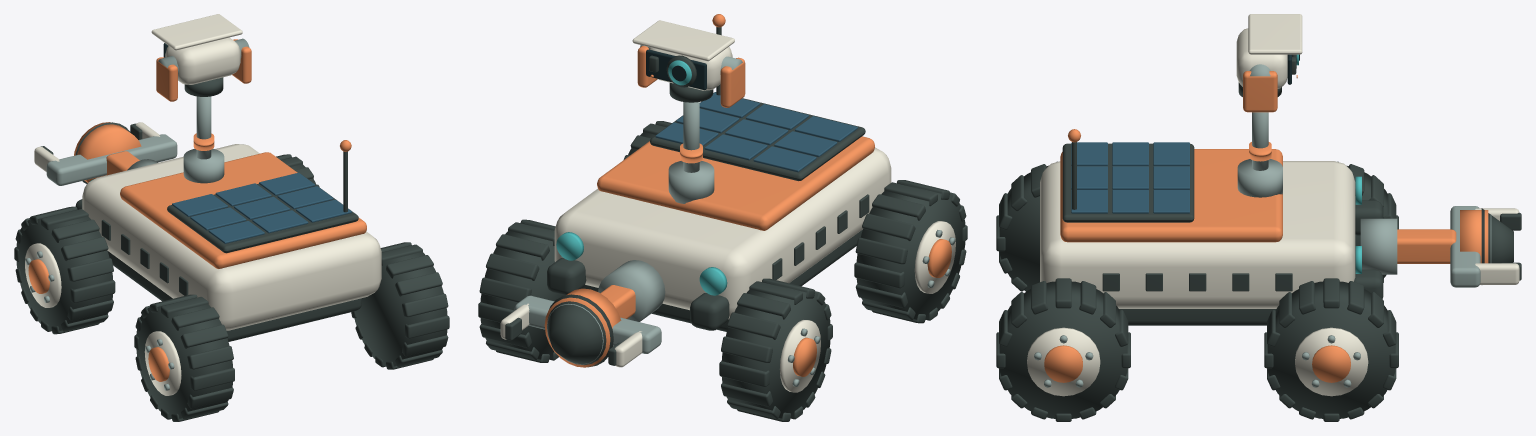
The model's file is rover.glb.
3 renders of one model, left to right at view 1: azimuth 30°, elevation 25°; view 2: azimuth 150°, elevation 25°; view 3: azimuth 270°, elevation 25°, orthographic. The views are drawn at different scales.
Parts seen in each view (by area): view 1: Body_warm porcelain, Wheel3_graphite rubber, Wheel0_graphite rubber, Wheel2_graphite rubber, Body_tangerine, Body_solar cells, Body_graphite rubber, GimbalRoll_warm porcelain, Claw_brushed alloy, Body_brushed alloy, Magnet_tangerine, GimbalYaw_tangerine (+7 smaller); view 2: Body_warm porcelain, Body_tangerine, Wheel0_graphite rubber, Wheel2_graphite rubber, Body_solar cells, Body_graphite rubber, Wheel1_graphite rubber, Suction_graphite rubber, GimbalRoll_warm porcelain, Body_brushed alloy, Tool_brushed alloy, Claw_brushed alloy (+13 smaller); view 3: Body_warm porcelain, Wheel3_graphite rubber, Wheel1_graphite rubber, Body_tangerine, Body_graphite rubber, Body_solar cells, Wheel2_graphite rubber, GimbalRoll_warm porcelain, Wheel3_warm porcelain, Wheel1_warm porcelain, Body_brushed alloy, Tool_brushed alloy (+9 smaller).
Part boxes in pixels (x1,y1,x2,y2): Body_warm porcelain: [82, 144, 381, 330]; Wheel3_graphite rubber: [351, 242, 449, 369]; Wheel0_graphite rubber: [14, 206, 115, 334]; Wheel2_graphite rubber: [134, 294, 234, 421]; Body_tangerine: [120, 133, 366, 268]; Body_solar cells: [172, 172, 351, 243]; Body_graphite rubber: [75, 151, 361, 341]; GimbalRoll_warm porcelain: [151, 14, 242, 84]; Claw_brushed alloy: [46, 134, 177, 185]; Body_brushed alloy: [183, 96, 224, 183]; Magnet_tangerine: [74, 122, 141, 182]; GimbalYaw_tangerine: [156, 39, 251, 101]; Body_warm porcelain: [554, 147, 891, 319]; Body_tangerine: [597, 14, 874, 230]; Wheel0_graphite rubber: [719, 278, 832, 421]; Wheel2_graphite rubber: [854, 180, 967, 323]; Body_solar cells: [655, 92, 857, 172]; Body_graphite rubber: [547, 27, 869, 331]; Wheel1_graphite rubber: [478, 219, 564, 362]; Suction_graphite rubber: [547, 294, 613, 367]; GimbalRoll_warm porcelain: [632, 20, 734, 90]; Body_brushed alloy: [668, 102, 714, 203]; Tool_brushed alloy: [598, 260, 665, 321]; Claw_brushed alloy: [514, 295, 661, 353]; Body_warm porcelain: [1040, 161, 1355, 308]; Wheel3_graphite rubber: [996, 278, 1130, 421]; Wheel1_graphite rubber: [1264, 278, 1398, 421]; Body_tangerine: [1060, 129, 1282, 242]; Body_graphite rubber: [1062, 142, 1383, 325]; Body_solar cells: [1071, 142, 1189, 213]; Wheel2_graphite rubber: [996, 161, 1057, 291]; GimbalRoll_warm porcelain: [1236, 14, 1302, 88]; Wheel3_warm porcelain: [1027, 327, 1100, 396]; Wheel1_warm porcelain: [1295, 327, 1368, 396]; Body_brushed alloy: [1237, 112, 1282, 197]; Tool_brushed alloy: [1360, 218, 1397, 274].
Size of the model in its own units: 1.61 by 1.64 by 2.43.
